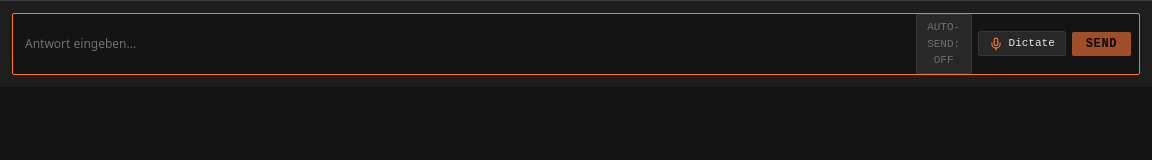
Test: ChatInput › stops dictation and ignores trailing transcripts when user manually edits or deletes in textarea (Option A)
Click the button with aria-label "spracheingabe starten".
click(1022, 44)  # box left=978, top=31, right=1066, bottom=56
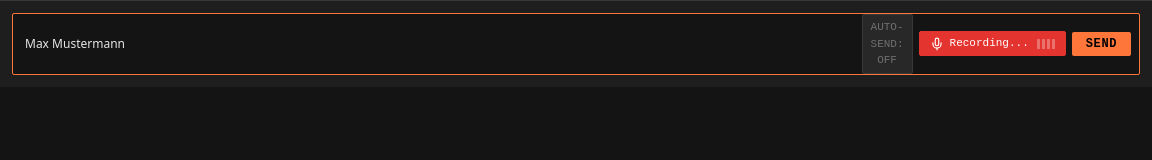
Now the text "Recording..." is shown, box left=950, top=36, right=1029, bottom=51
Now the text box with placeholder "Antwort eingeben..." holds "Max Mustermann"
User manually deletes part of the text while dictation is active
Replace the text in the text box with placeholder "Antwort eingeben..." with "Max" at (437, 44), box left=13, top=26, right=862, bottom=62
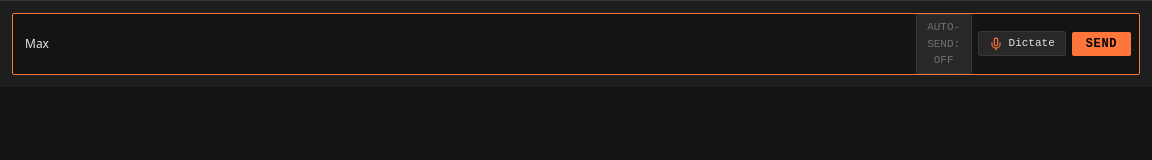
Now the button "Recording..." is gone
